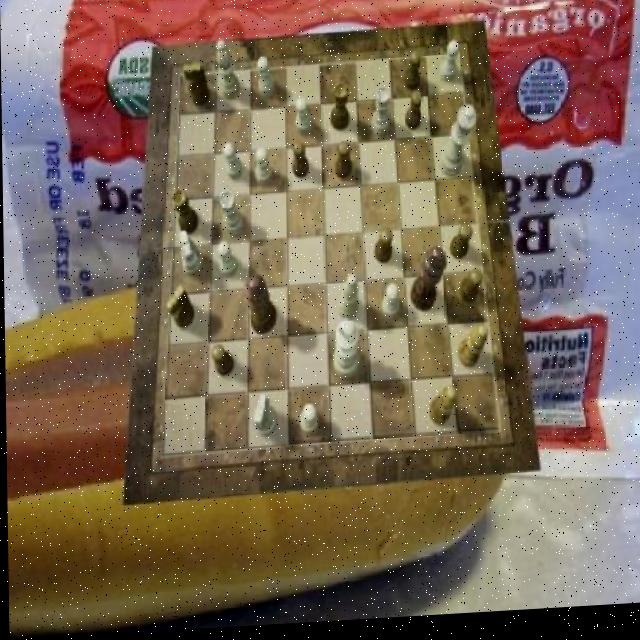bishop: (456, 331, 488, 375), (427, 391, 454, 431)
black-bishop: (409, 251, 445, 317)
black-king: (165, 287, 193, 332), (182, 64, 209, 110)
black-knight: (458, 273, 482, 309), (447, 229, 471, 265), (402, 56, 421, 97), (209, 348, 232, 381), (405, 96, 423, 137), (334, 145, 352, 184), (291, 142, 308, 182), (373, 233, 392, 268)
black-pawn: (243, 278, 276, 340)
black-queen: (172, 191, 198, 238), (330, 87, 349, 135)
black-rook: (216, 43, 240, 104), (336, 278, 358, 324)
white-bishop: (330, 324, 357, 385)
white-king: (177, 232, 202, 279), (251, 397, 274, 440)
white-knight: (438, 46, 458, 89), (222, 144, 242, 183), (215, 245, 236, 282), (256, 61, 274, 102), (254, 151, 272, 189), (294, 101, 311, 139), (381, 288, 399, 323), (298, 407, 317, 439)
white-pawn: (438, 110, 478, 183)
white-queen: (219, 194, 243, 240), (370, 91, 389, 141)
